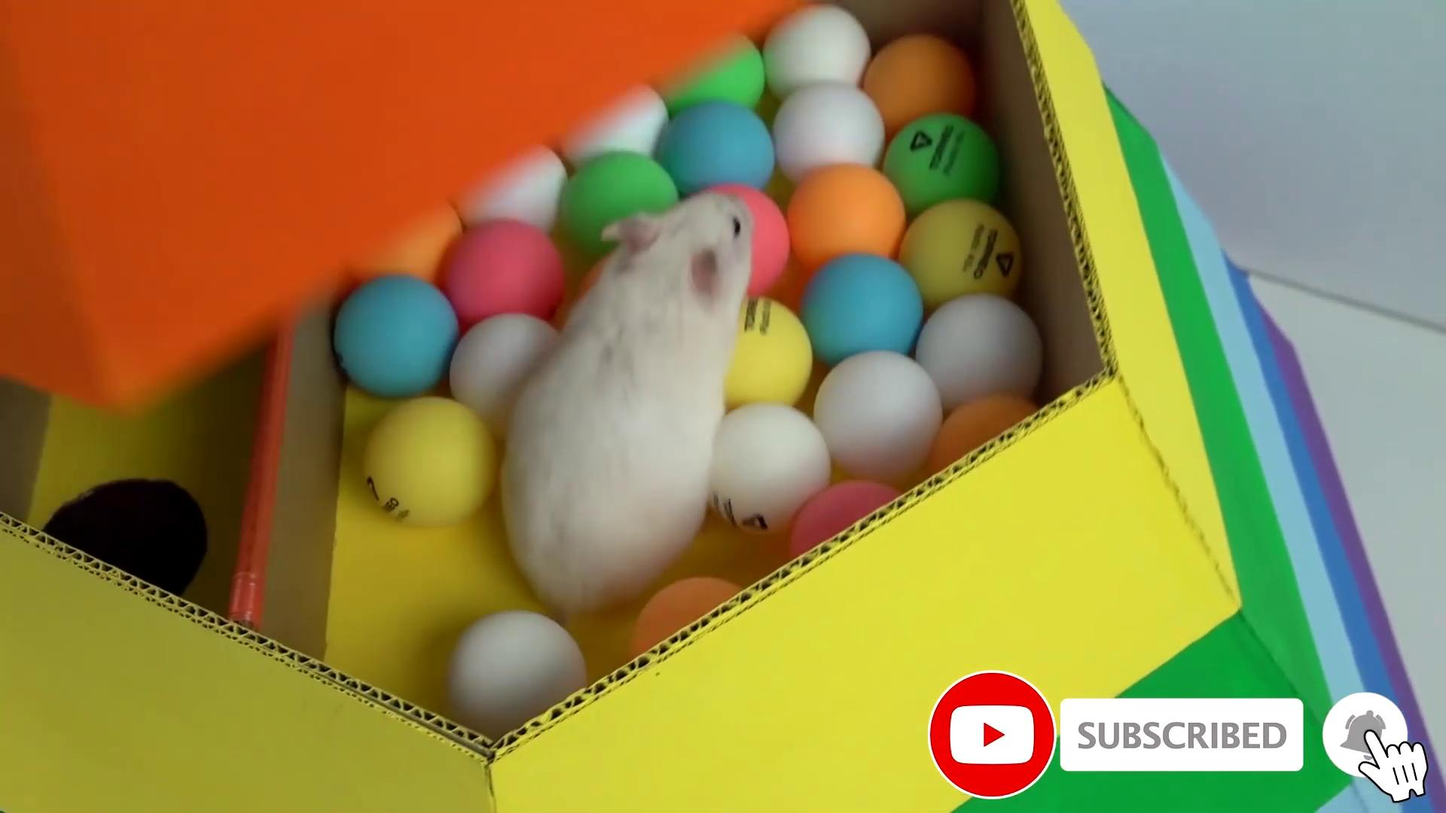rat: (500, 187, 754, 618)
